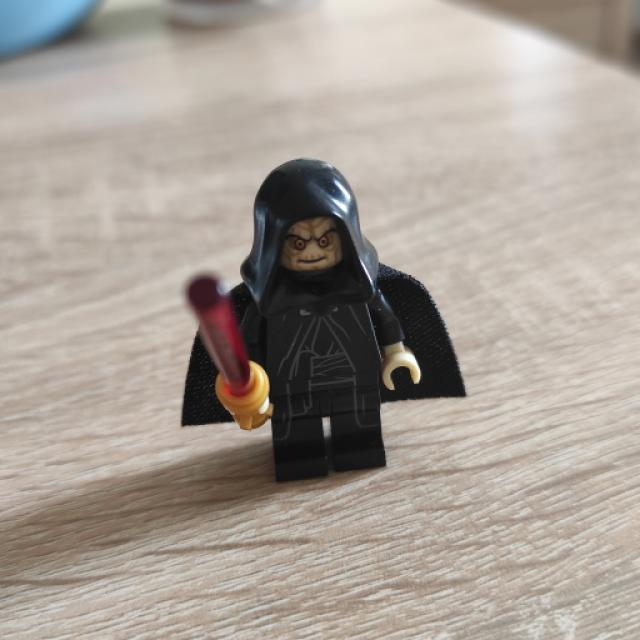Lego-Minifigures: (142, 146, 496, 520)
